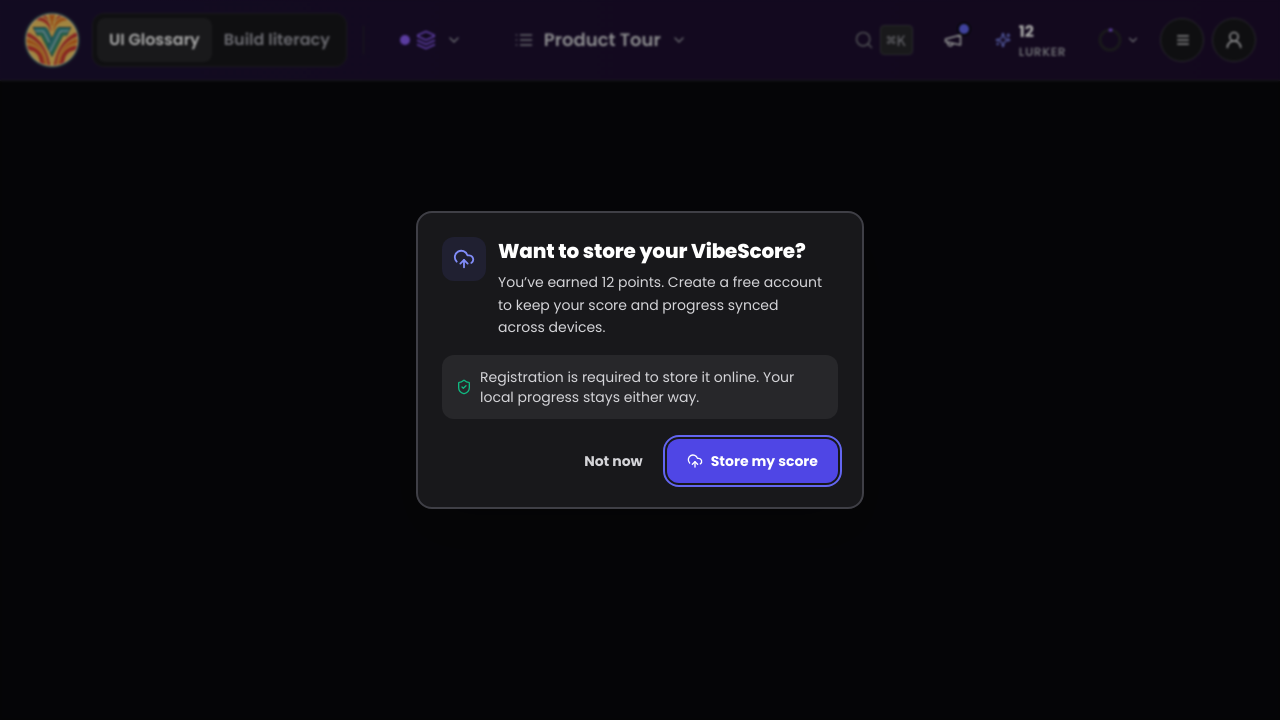
Test: score storage prompt › asks after several signed-out topic views, then opens registration
Check: the dialog "store your VibeScore" is shown, box [416, 211, 864, 509]
Step 1. Click the button "Store my score" → (752, 461), box [667, 439, 838, 483]
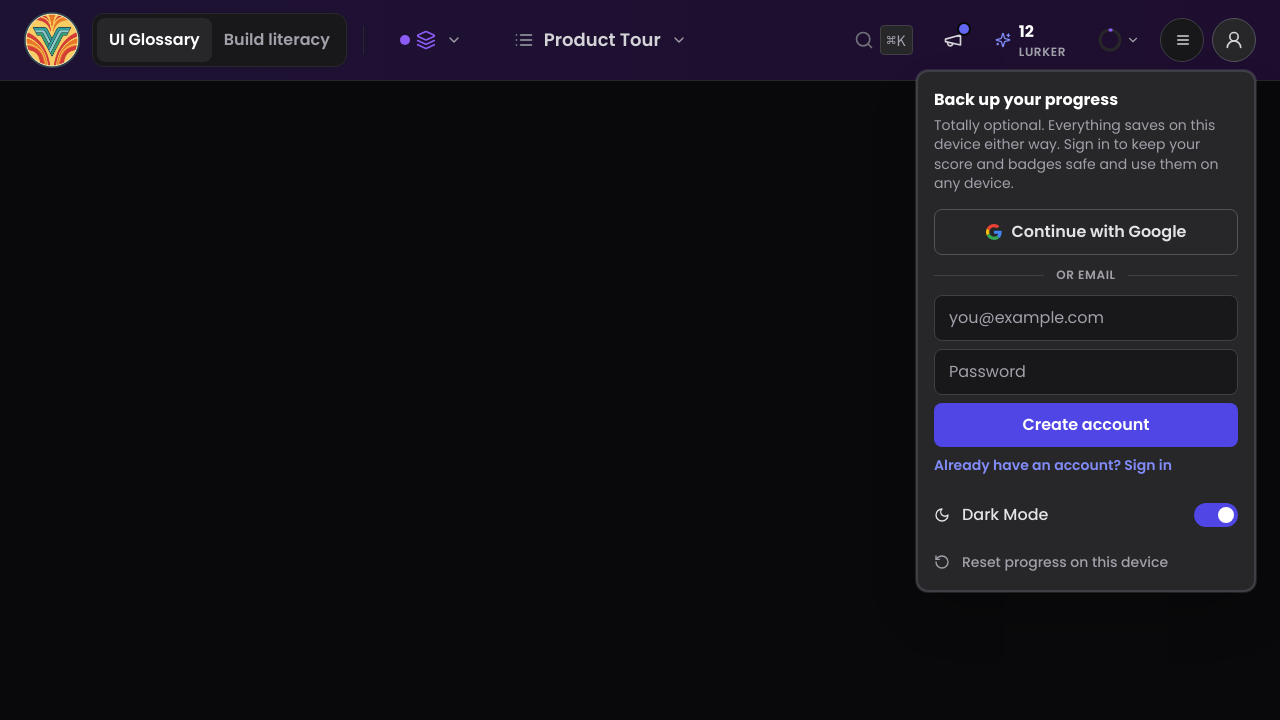
Check: the heading "store your VibeScore" is gone
Check: the button "Create account" is shown, box [934, 403, 1238, 447]
Check: the button "Already have an account? Sign in" is shown, box [934, 455, 1172, 475]
